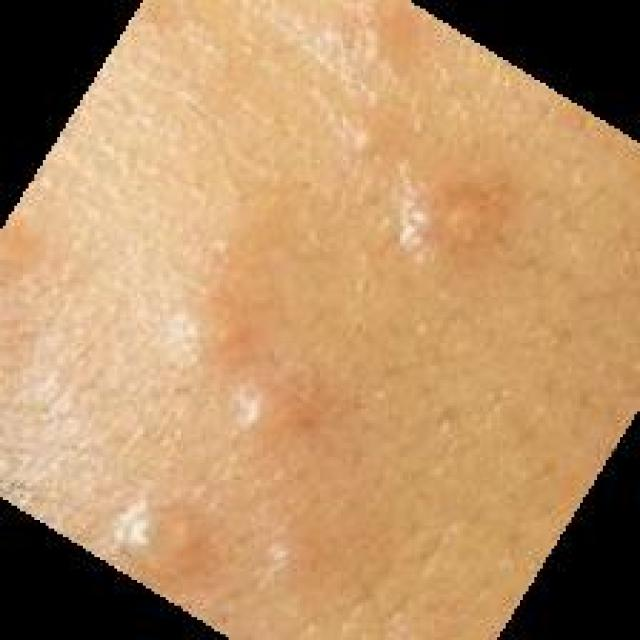others: (81, 65, 561, 568)
